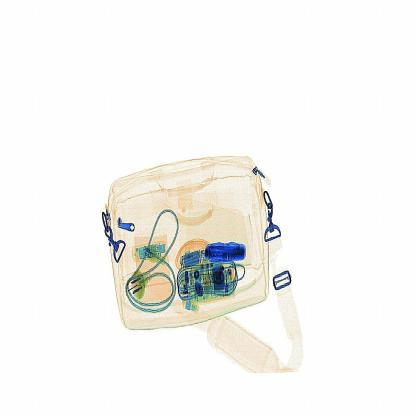scissors: (201, 237, 256, 269)
